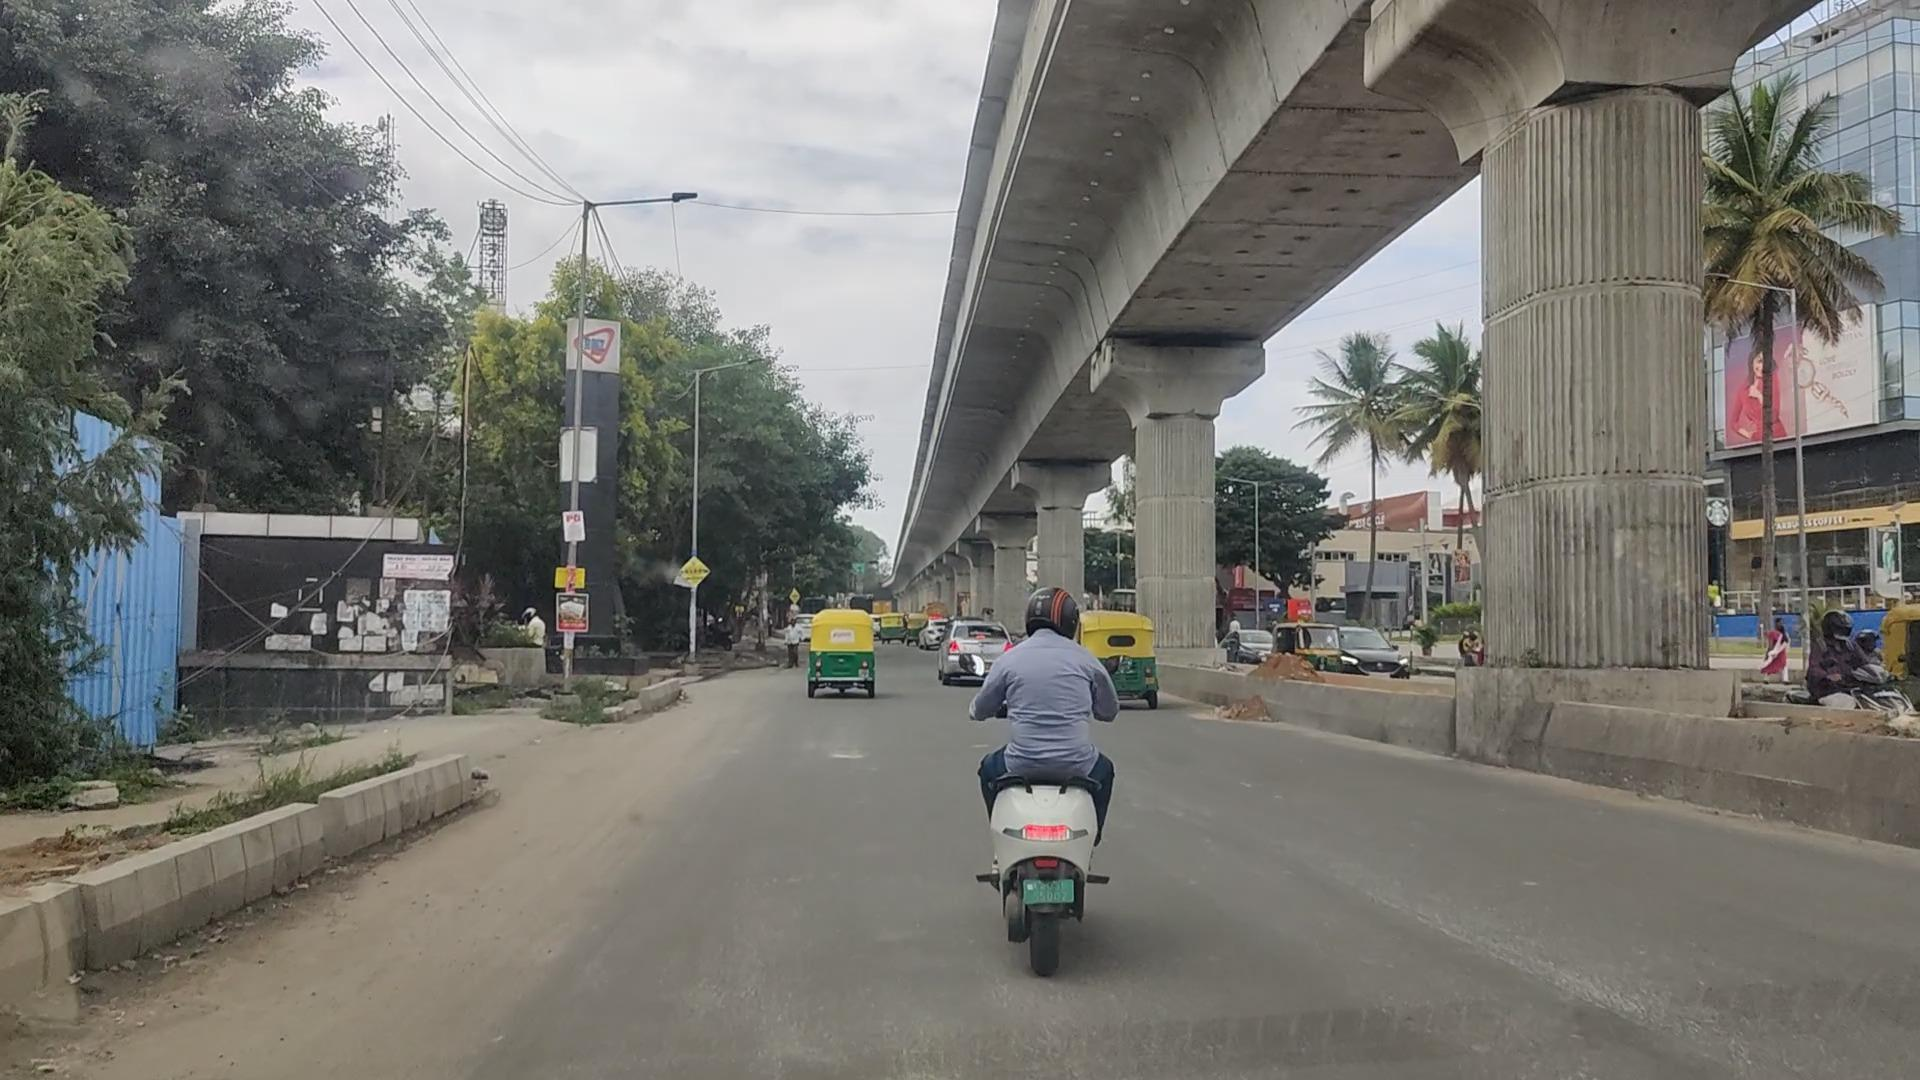LMV: (956, 570, 1120, 963), (804, 608, 885, 694)
